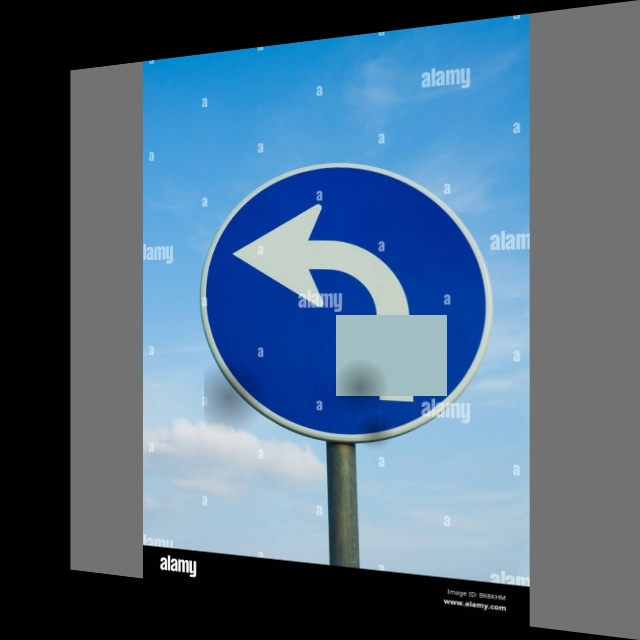Compulsory_Turn_Left_Ahead: (204, 156, 478, 451)
